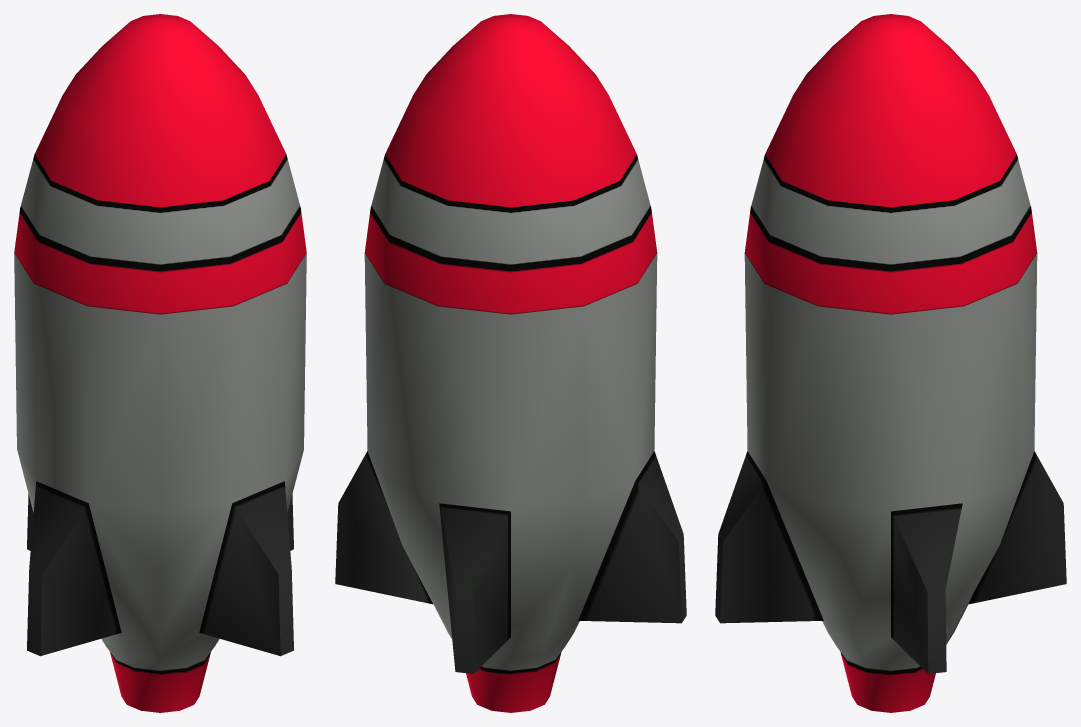
Rendered from Bullet.FBX.
3 renders of one model, left to right at view 1: azimuth 30°, elevation 25°; view 2: azimuth 150°, elevation 25°; view 3: azimuth 270°, elevation 25°, orthographic.
Visible parts, largest first — view 1: Cube; view 2: Cube; view 3: Cube.
Boxes of the visible parts, <box> form: Cube: <box>14,14,306,712</box>; Cube: <box>335,14,686,712</box>; Cube: <box>715,14,1066,712</box>.
Bounding box in the file's own units: 512 × 1086 × 512.
Materials: 1 (1 with a texture image).
